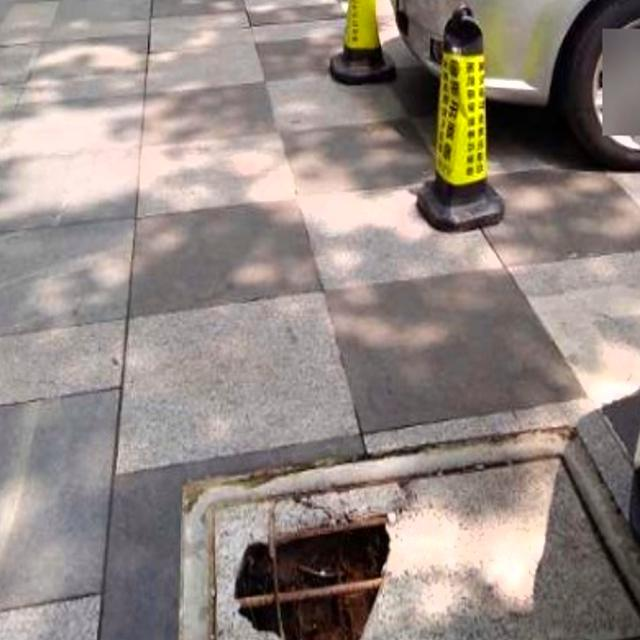broke: (179, 427, 640, 640)
